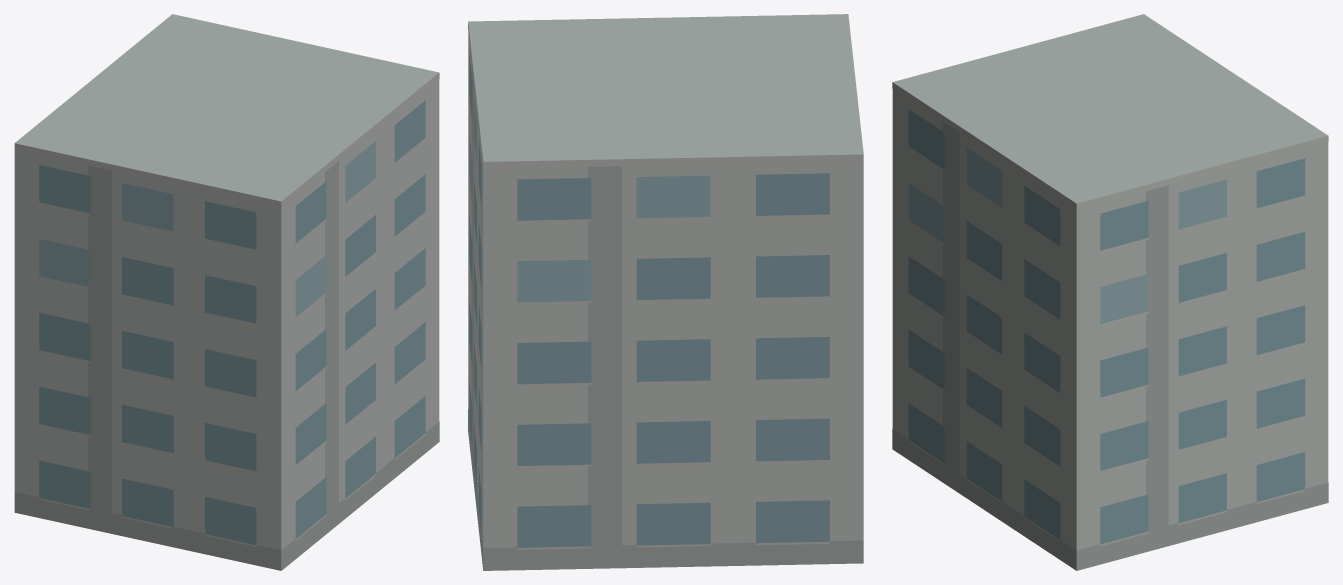
Rendered from residential-c48ad42a-8d89-491f-b826-1bc3ba1c0800.glb.
3 views of the same model, side by side, from view 1: azimuth 30°, elevation 25°; view 2: azimuth 150°, elevation 25°; view 3: azimuth 270°, elevation 25° (orthographic). The views are drawn at different scales.
Visible parts, largest first — view 1: residential-c48ad42a-8d89-491f-b826-1bc3ba1c0800.tmp; view 2: residential-c48ad42a-8d89-491f-b826-1bc3ba1c0800.tmp; view 3: residential-c48ad42a-8d89-491f-b826-1bc3ba1c0800.tmp.
Part boxes in pixels (bbox=[...]): residential-c48ad42a-8d89-491f-b826-1bc3ba1c0800.tmp: bbox=[14, 14, 439, 570]; residential-c48ad42a-8d89-491f-b826-1bc3ba1c0800.tmp: bbox=[468, 14, 863, 570]; residential-c48ad42a-8d89-491f-b826-1bc3ba1c0800.tmp: bbox=[892, 14, 1328, 570].
Size of the model in its own units: 15.58 by 14.05 by 15.13.
